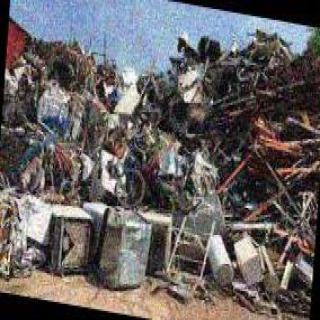METAL: (6, 24, 320, 319), (238, 116, 318, 253), (97, 201, 151, 282), (48, 198, 94, 270), (237, 240, 261, 281)
